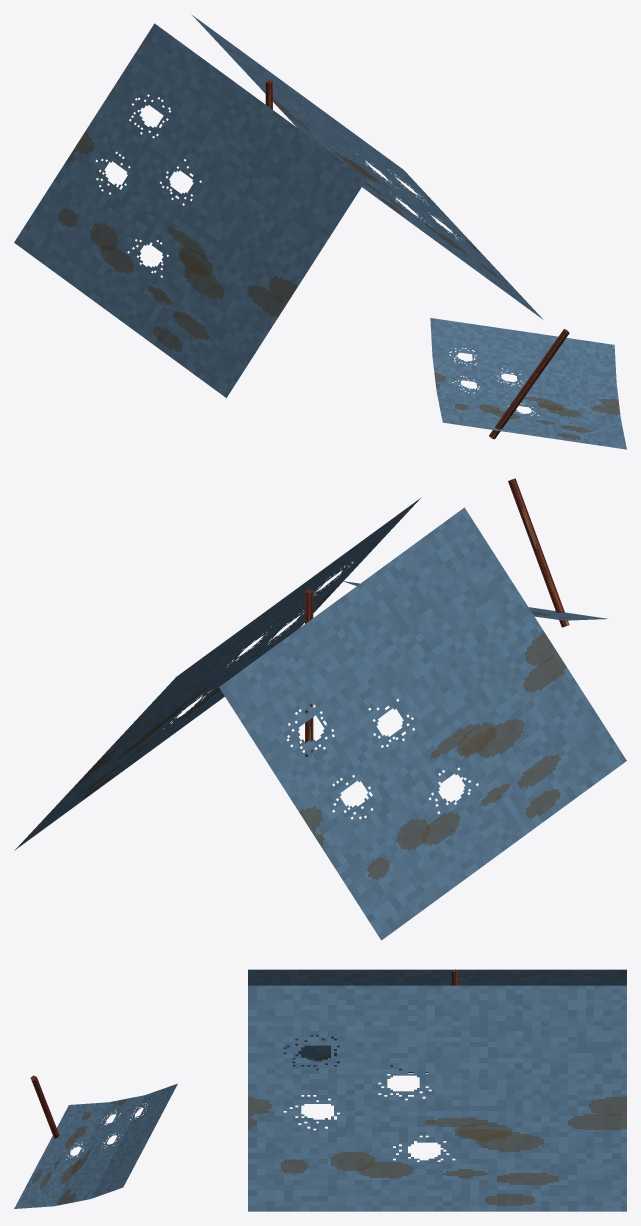
The model's file is prop_tent.glb.
The picture shows the model from 3 angles, top to bottom: view 1: azimuth 30°, elevation 25°; view 2: azimuth 150°, elevation 25°; view 3: azimuth 270°, elevation 25°; orthographic projection. The views are drawn at different scales.
Visible parts, largest first — view 1: prop_tent; view 2: prop_tent; view 3: prop_tent.
Boxes of the visible parts, bbox=[...] form: prop_tent: bbox=[14, 14, 626, 449]; prop_tent: bbox=[14, 478, 626, 940]; prop_tent: bbox=[14, 969, 626, 1211].
Size of the model in its own units: 1.9 by 1.22 by 3.56.
2 materials, 2 textured.
